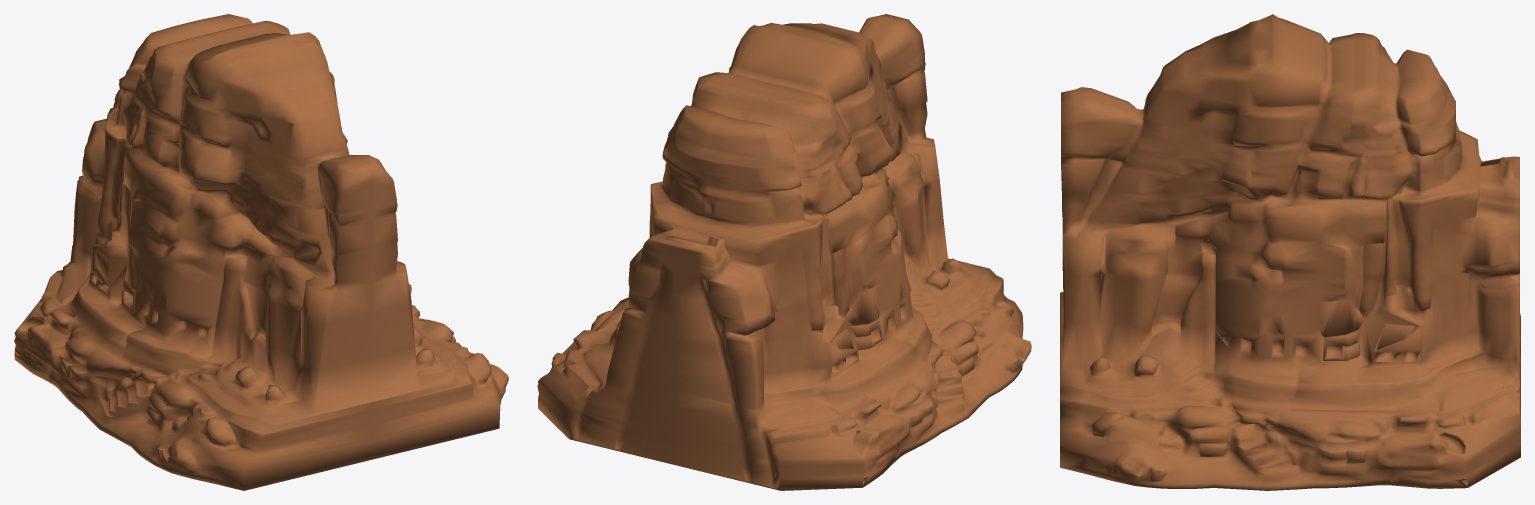
The model's file is Montenegro.fbx.
3 views of the same model, side by side, from view 1: azimuth 30°, elevation 25°; view 2: azimuth 150°, elevation 25°; view 3: azimuth 270°, elevation 25° (orthographic). The views are drawn at different scales.
Parts seen in each view (by area): view 1: tripo_node_da1a79d0; view 2: tripo_node_da1a79d0; view 3: tripo_node_da1a79d0.
Part boxes in pixels (box(x1,y1,x2,y2)): tripo_node_da1a79d0: box(14, 14, 508, 490); tripo_node_da1a79d0: box(537, 14, 1031, 490); tripo_node_da1a79d0: box(1060, 14, 1520, 490).
Size of the model in its own units: 0.9066 by 0.8695 by 0.9962.
